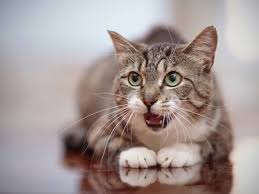Gato: (103, 22, 225, 149)
